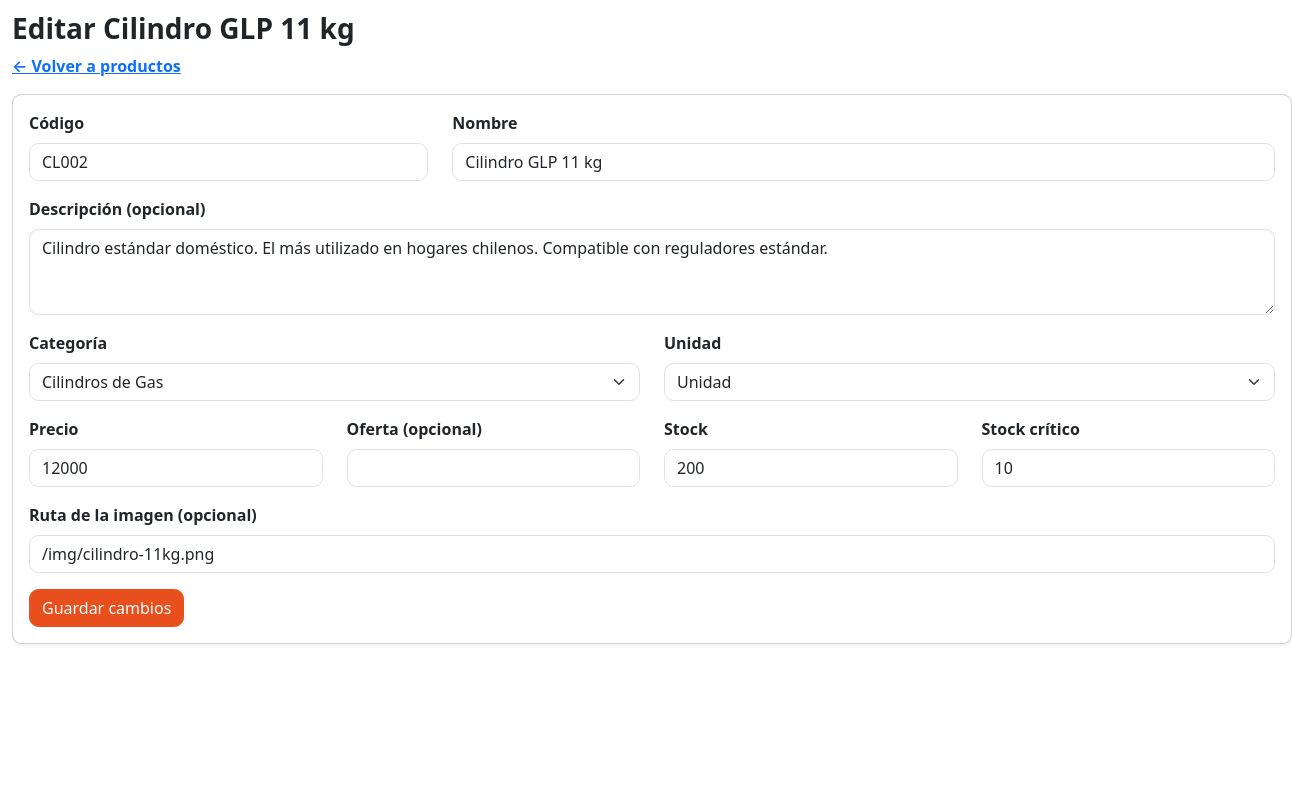
Test: pages/admin/ProductoForm › no guarda si hay errores
The width and height of the screenshot is (1292, 812).
Step 1. Replace the text in the number field labelled "Stock" with "-3" → (811, 468), box left=664, top=449, right=958, bottom=487
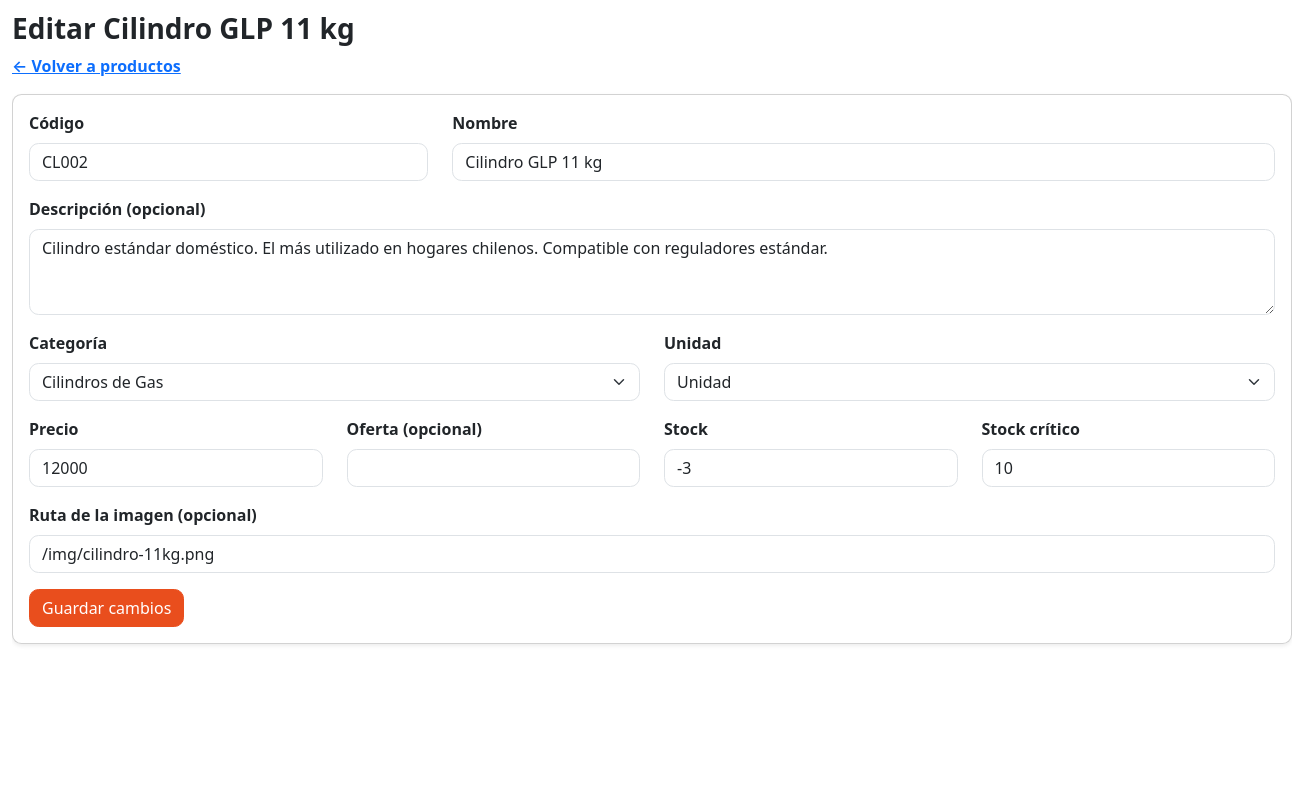
Step 2. Click the button "Guardar cambios" → click(107, 608), box left=29, top=589, right=184, bottom=627
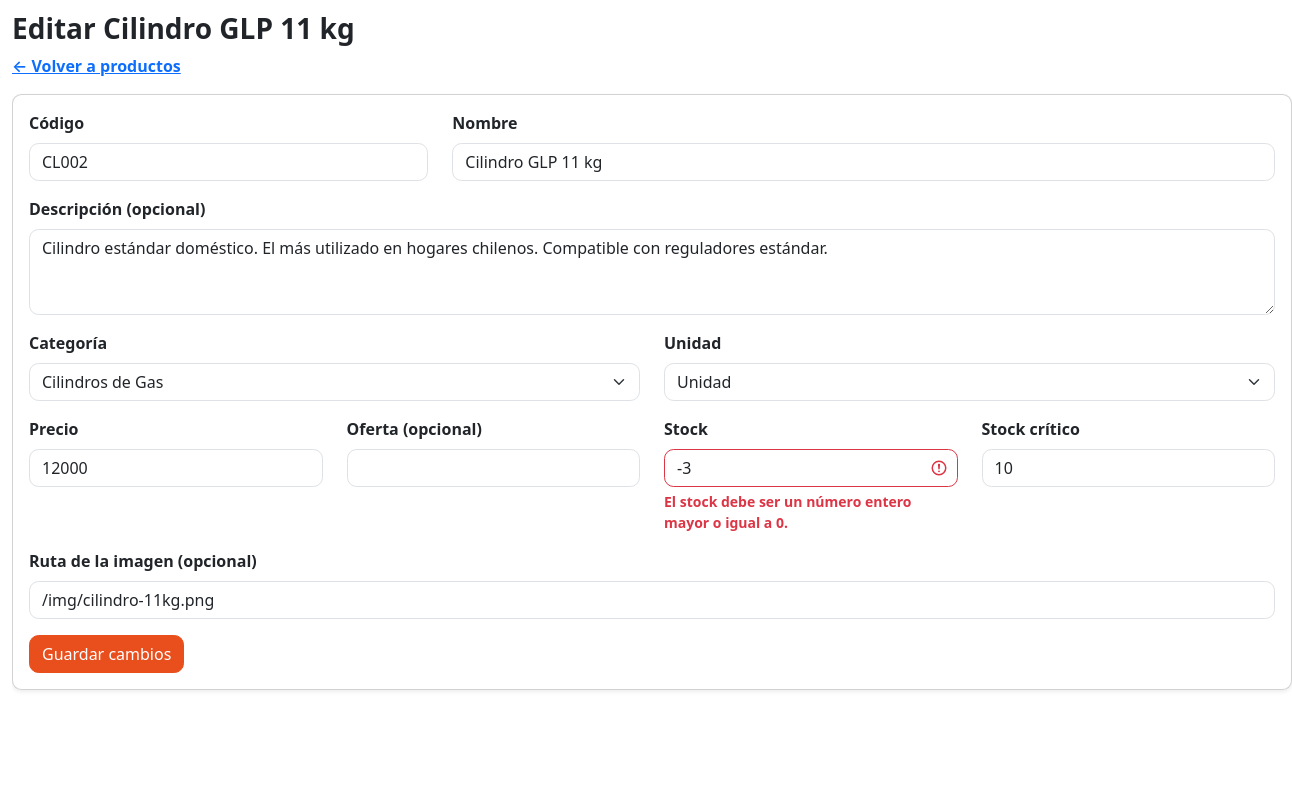
Expected: the text "El stock debe ser un número entero mayor o igual a 0." is shown, left=664, top=492, right=912, bottom=532
